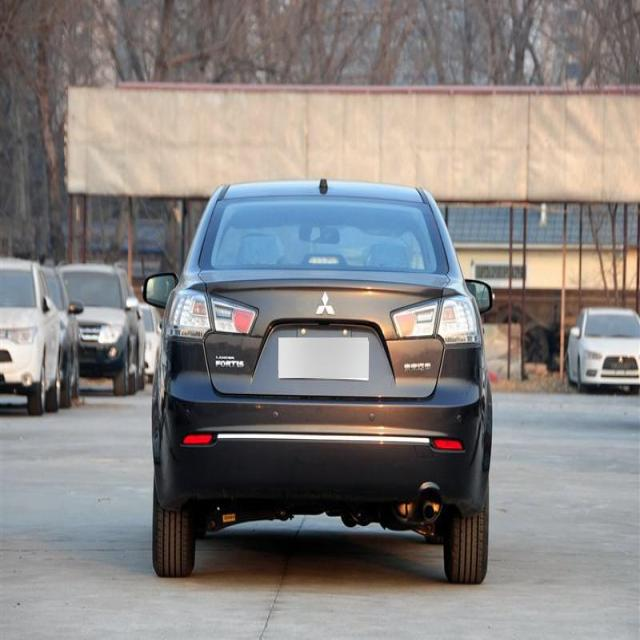back_glass: (197, 198, 447, 274)
back_left_side_light: (162, 285, 258, 343)
back_right_side_light: (391, 292, 484, 349)
front_left_side_mirror: (142, 270, 176, 312)
front_right_side_mirror: (464, 278, 499, 308)
rear_bumper: (152, 338, 486, 509)
